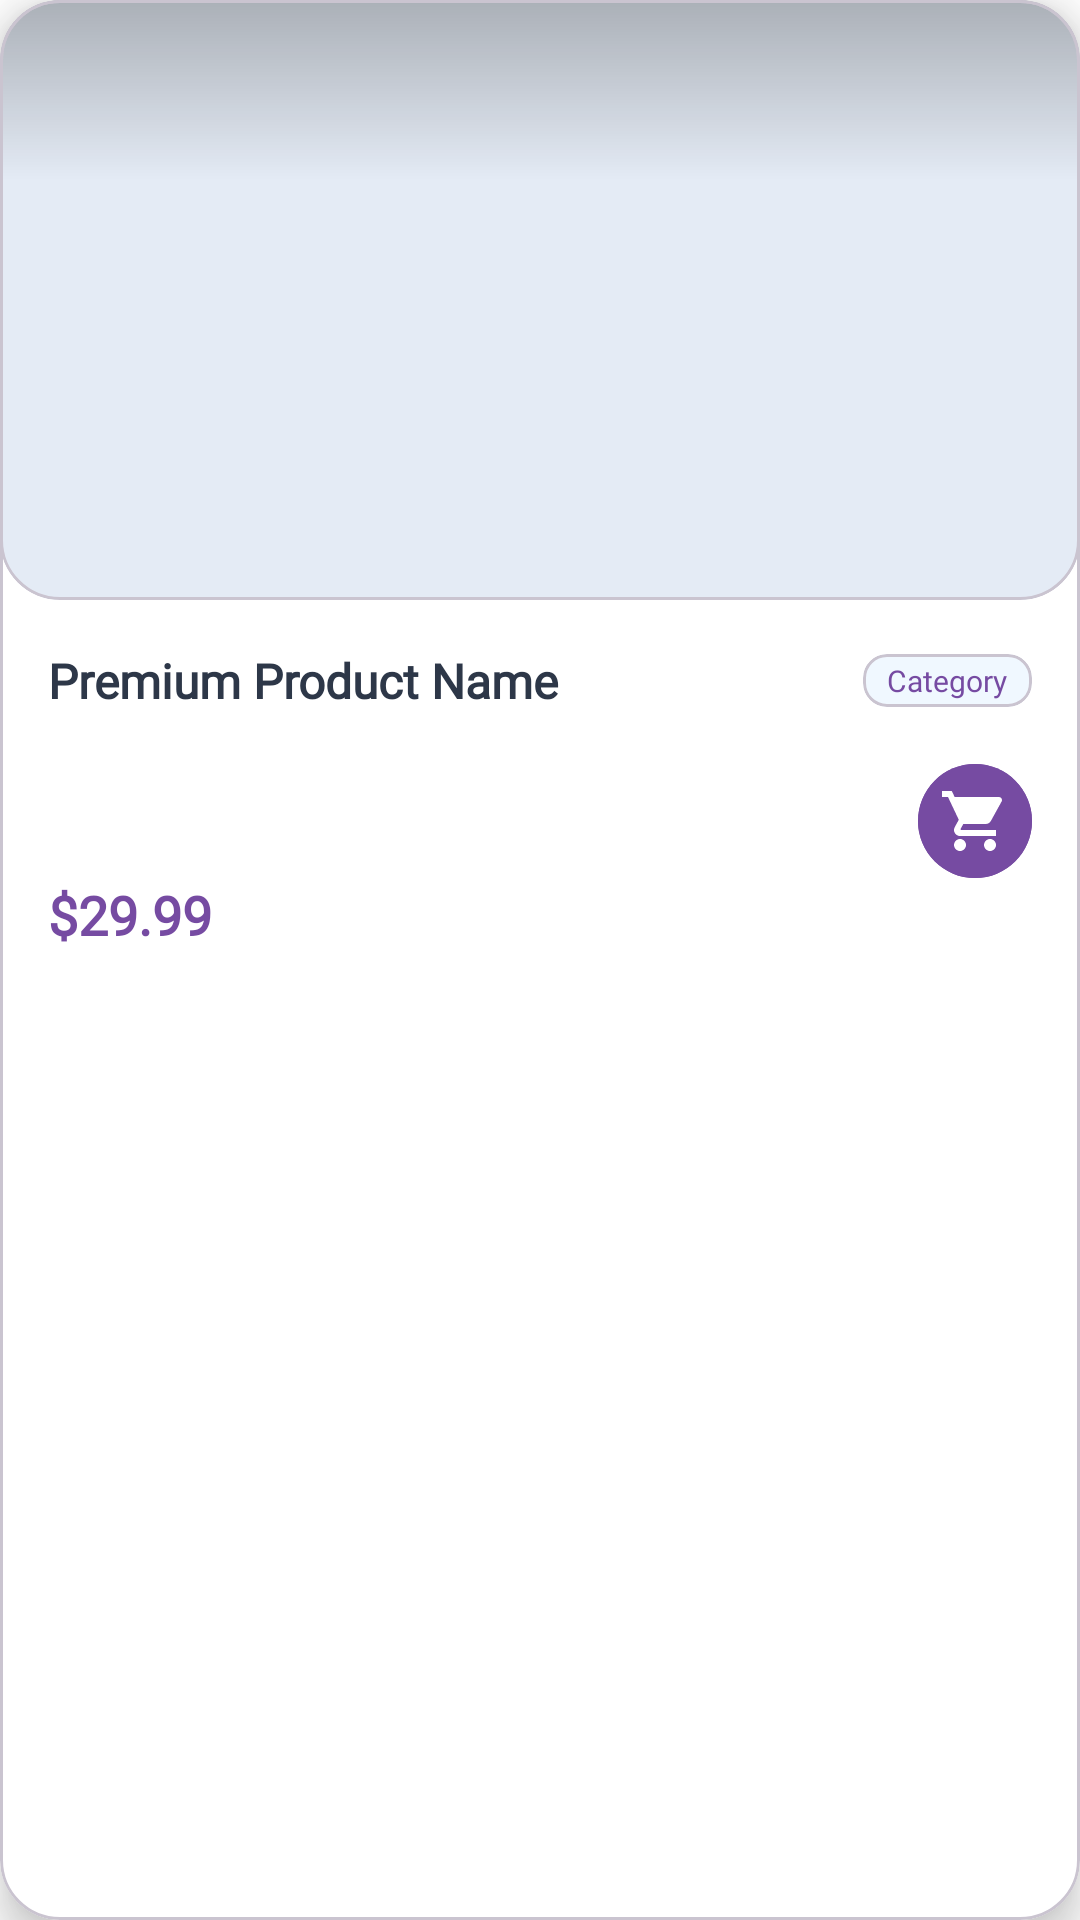

Point at icon controls on the screen. Image size 1080*1920, points as (x=x, y=y).
shopping cart: (x=975, y=821)
